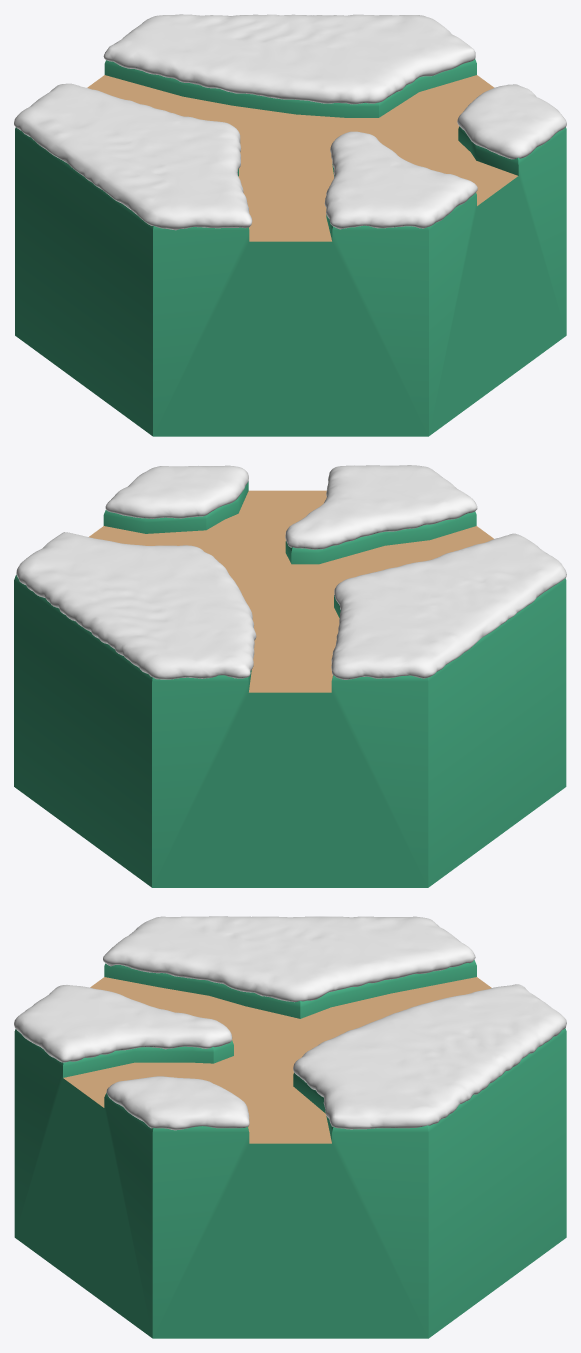
The model's file is snow_hex_forest_roadI.fbx.
The picture shows the model from 3 angles, top to bottom: view 1: azimuth 30°, elevation 25°; view 2: azimuth 150°, elevation 25°; view 3: azimuth 270°, elevation 25°; orthographic projection.
Parts seen in each view (by area): view 1: hex_forest_roadI.001, SnowBall.001, hex_forest_roadI; view 2: hex_forest_roadI.001, SnowBall.001, hex_forest_roadI; view 3: hex_forest_roadI.001, SnowBall.001, hex_forest_roadI.
Part boxes in pixels (<box>): hex_forest_roadI.001: <box>15,59,566,436</box>; SnowBall.001: <box>14,14,566,230</box>; hex_forest_roadI: <box>87,75,517,241</box>; hex_forest_roadI.001: <box>14,481,566,887</box>; SnowBall.001: <box>16,465,566,679</box>; hex_forest_roadI: <box>89,490,493,692</box>; hex_forest_roadI.001: <box>14,960,566,1338</box>; SnowBall.001: <box>14,916,566,1130</box>; hex_forest_roadI: <box>63,977,491,1143</box>.
Size of the model in its own units: 203 by 104 by 231.
